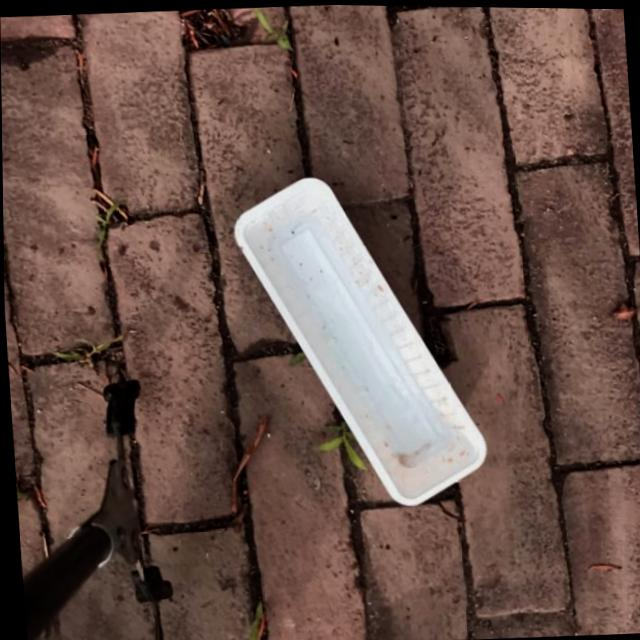Plastic: (226, 163, 490, 516)
